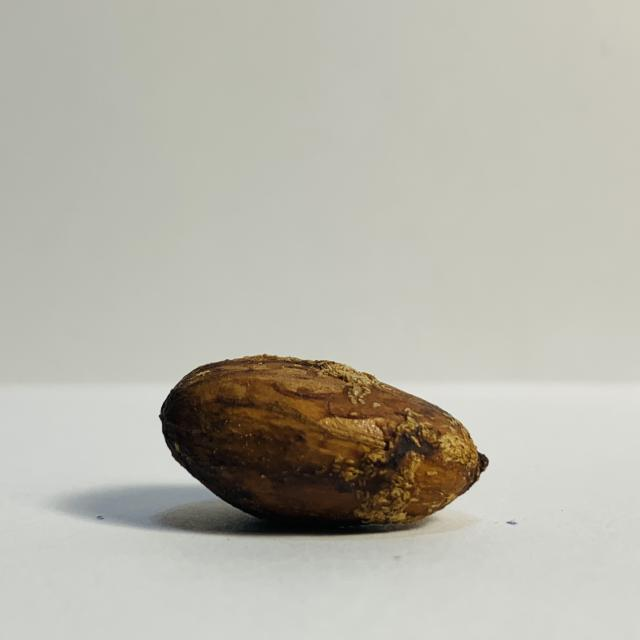Fine_cocoabeans: (46, 324, 542, 608)
